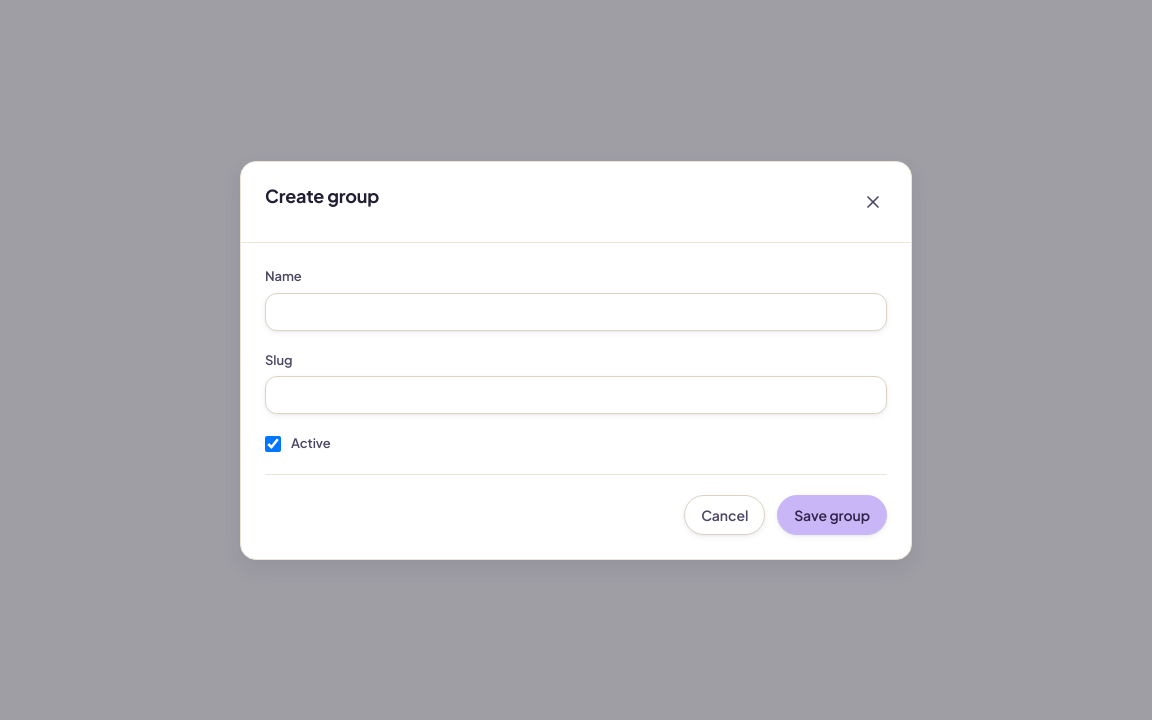
GroupFormModal › duplicate slug backend 400 renders on slug field
Type "South Group" into the field labelled "Name" at (576, 311), box [265, 292, 887, 330]
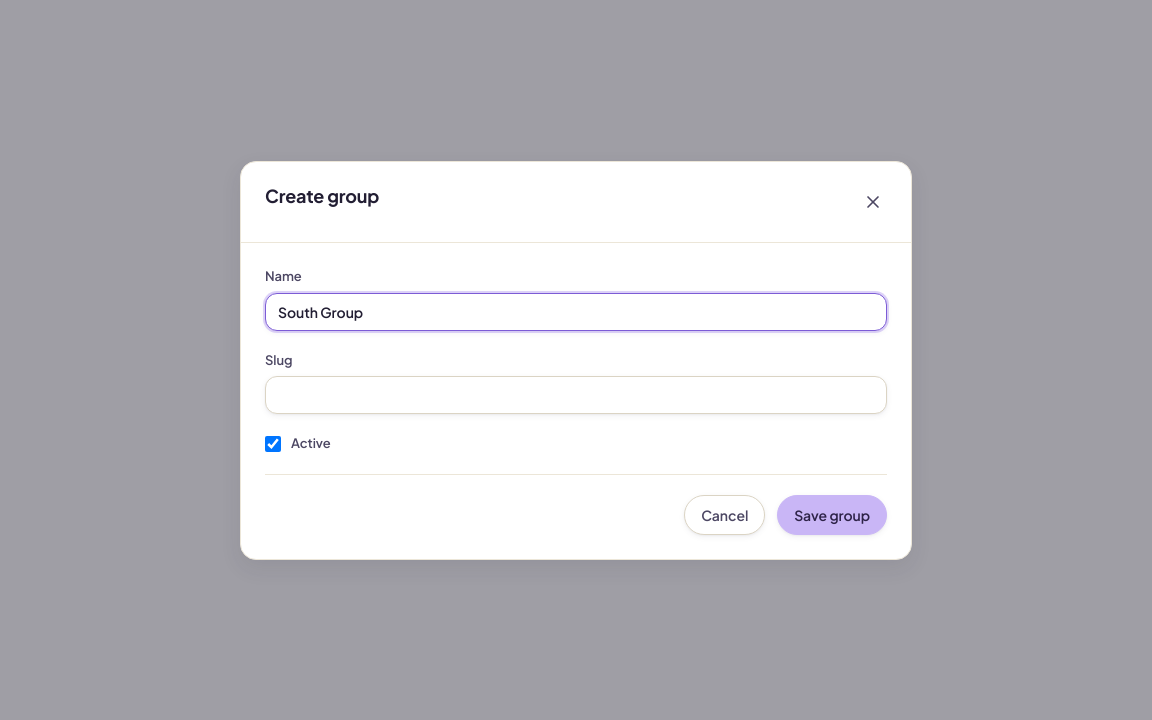
Type "north-group" into the field labelled "Slug" at (576, 395), box [265, 376, 887, 414]
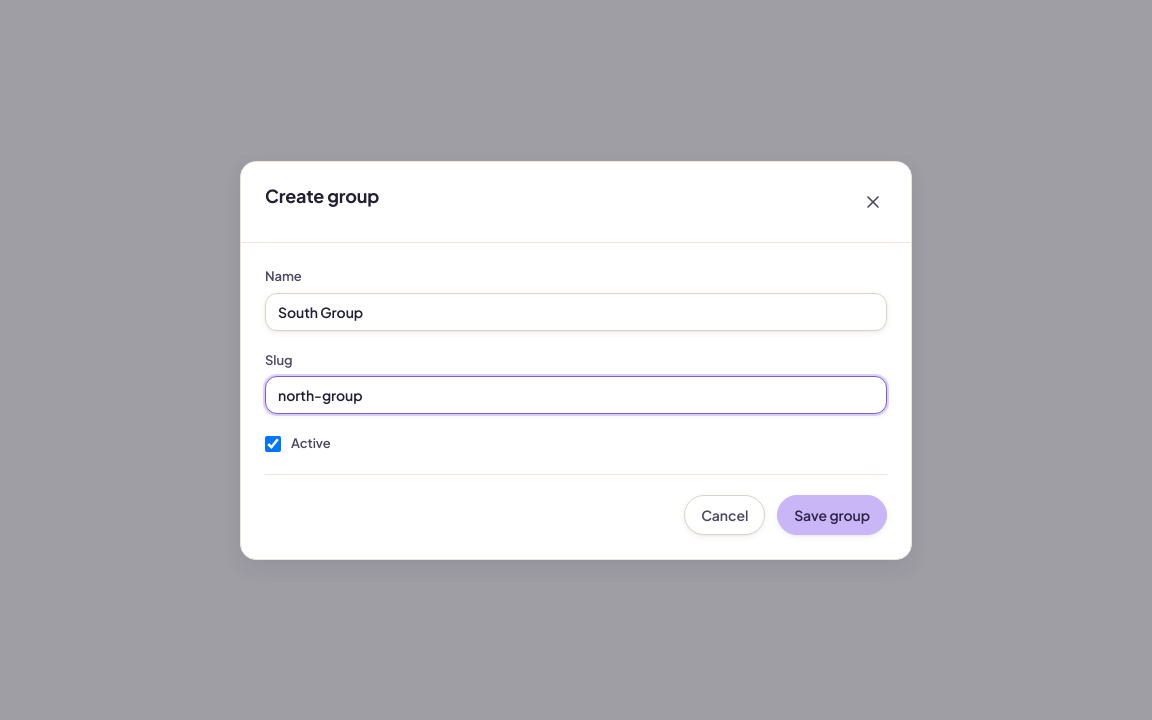
Click the button "Save group" at (832, 514), box [777, 494, 887, 534]
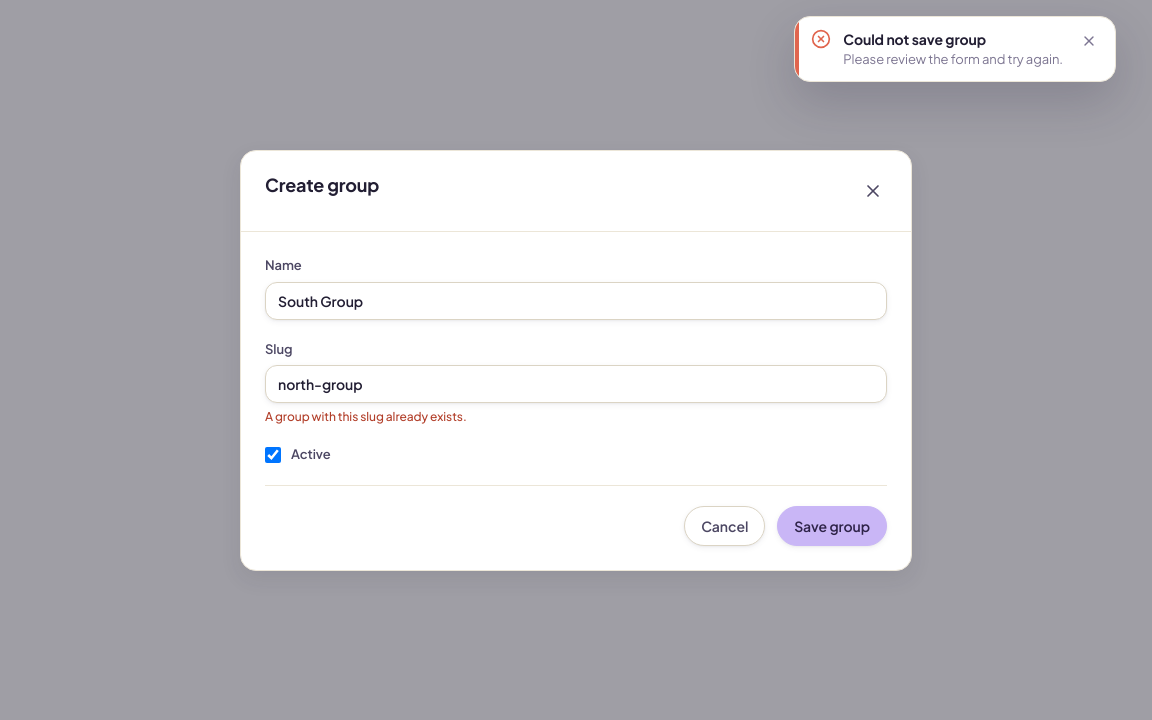
expect the list item "A group with this slug already exists." is shown: met, box [265, 409, 467, 424]
